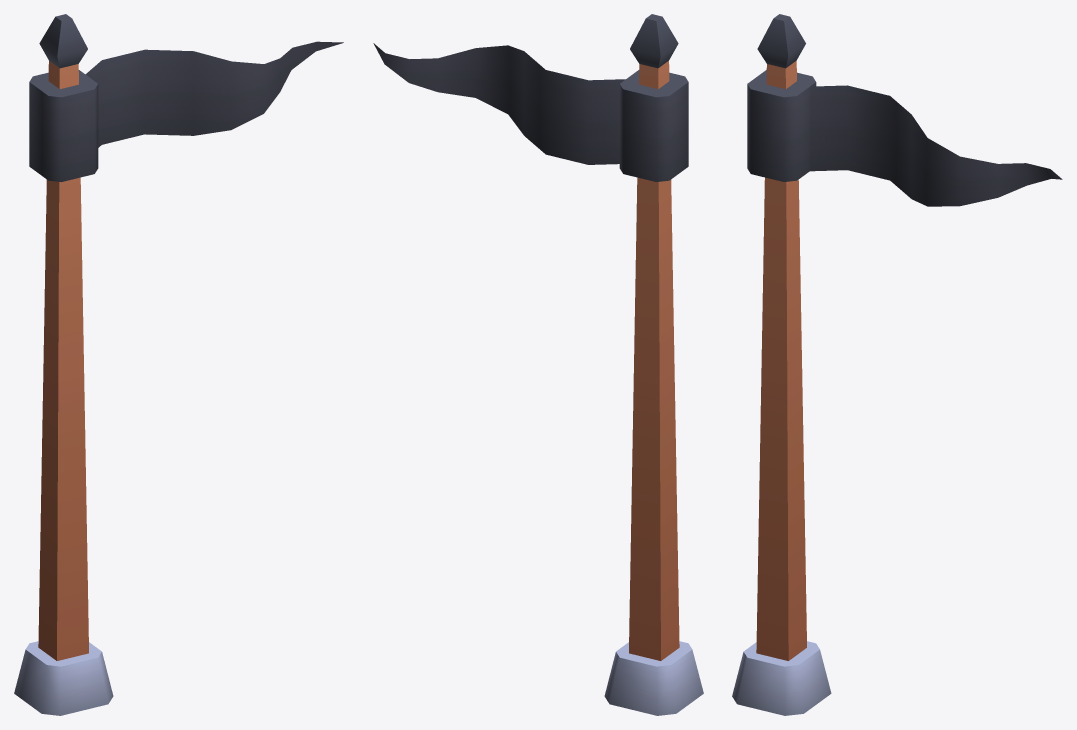
The model's file is flag-pirate-high-pennant.glb.
3 views of the same model, side by side, from view 1: azimuth 30°, elevation 25°; view 2: azimuth 150°, elevation 25°; view 3: azimuth 330°, elevation 25° (orthographic).
Parts seen in each view (by area): view 1: flag-pirate-high-pennant; view 2: flag-pirate-high-pennant; view 3: flag-pirate-high-pennant.
Boxes of the visible parts, <box> form: flag-pirate-high-pennant: <box>14,14,343,715</box>; flag-pirate-high-pennant: <box>373,14,703,715</box>; flag-pirate-high-pennant: <box>732,14,1062,715</box>.
Size of the model in its own units: 1.76 by 3.6 by 0.3987.
1 material, 1 textured.
